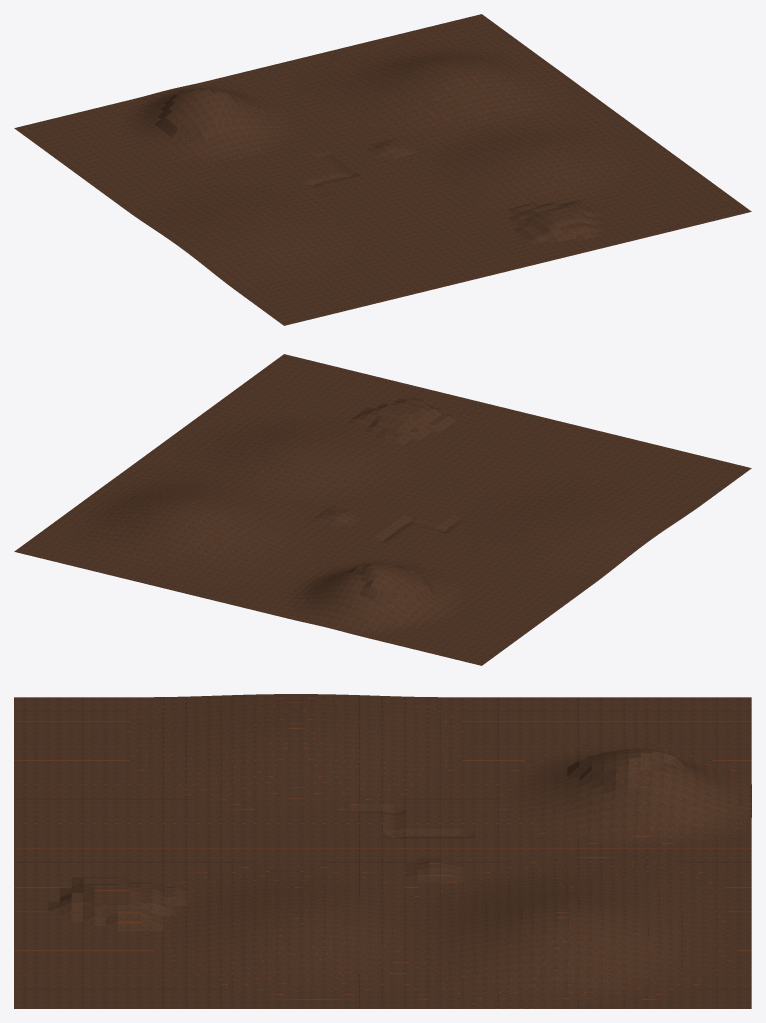
Rendered from environmentprealpha.glb.
3 renders of one model, top to bottom at view 1: azimuth 30°, elevation 25°; view 2: azimuth 150°, elevation 25°; view 3: azimuth 270°, elevation 25°, orthographic. The views are drawn at different scales.
Parts seen in each view (by area): view 1: Plane.002; view 2: Plane.002; view 3: Plane.002.
Part boxes in pixels (left/top/right/bottom): Plane.002: left=14, top=14, right=751, bottom=325; Plane.002: left=14, top=354, right=751, bottom=665; Plane.002: left=14, top=694, right=751, bottom=1008.
Bounding box in the file's own units: 64 × 4.52 × 64.02.
1 material, 1 textured.
